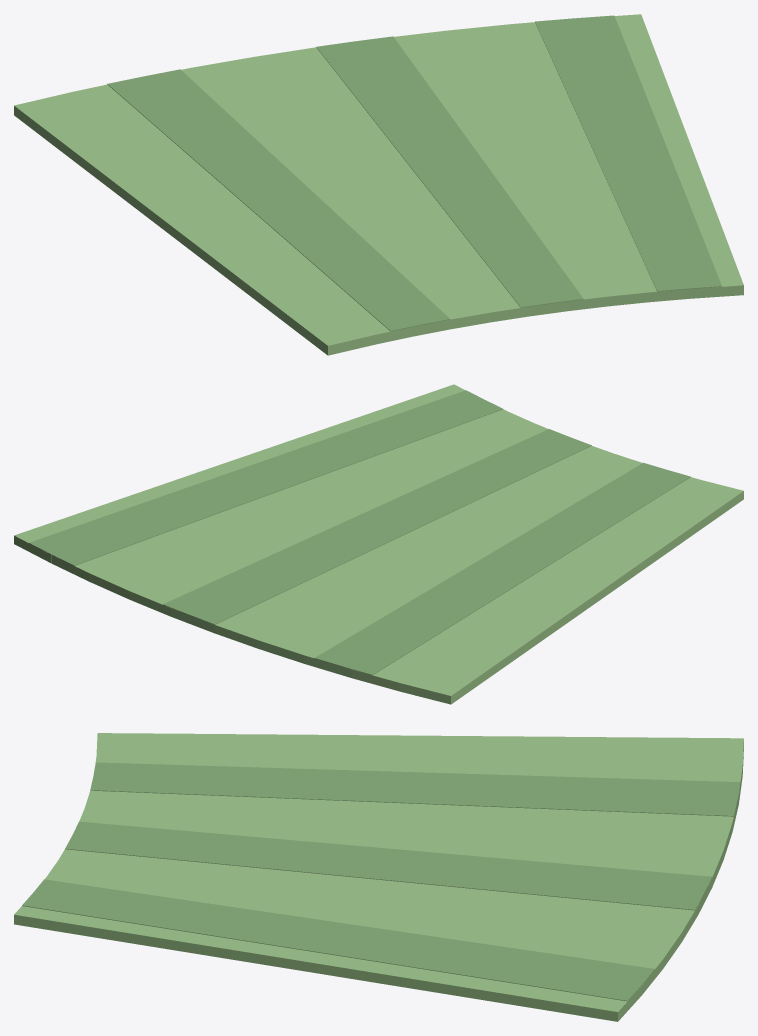
Rendered from racecourse-and-parade-ring-turf-track-bend-22b02b55__38593.glb.
The picture shows the model from 3 angles, top to bottom: view 1: azimuth 30°, elevation 25°; view 2: azimuth 150°, elevation 25°; view 3: azimuth 270°, elevation 25°; orthographic projection. The views are drawn at different scales.
Visible parts, largest first — view 1: turf-track-bend; view 2: turf-track-bend; view 3: turf-track-bend.
Boxes of the visible parts, bbox=[...] form: turf-track-bend: bbox=[14, 14, 743, 355]; turf-track-bend: bbox=[14, 384, 743, 704]; turf-track-bend: bbox=[14, 733, 743, 1021].
Bounding box in the file's own units: 12.26 × 0.2118 × 13.55.
